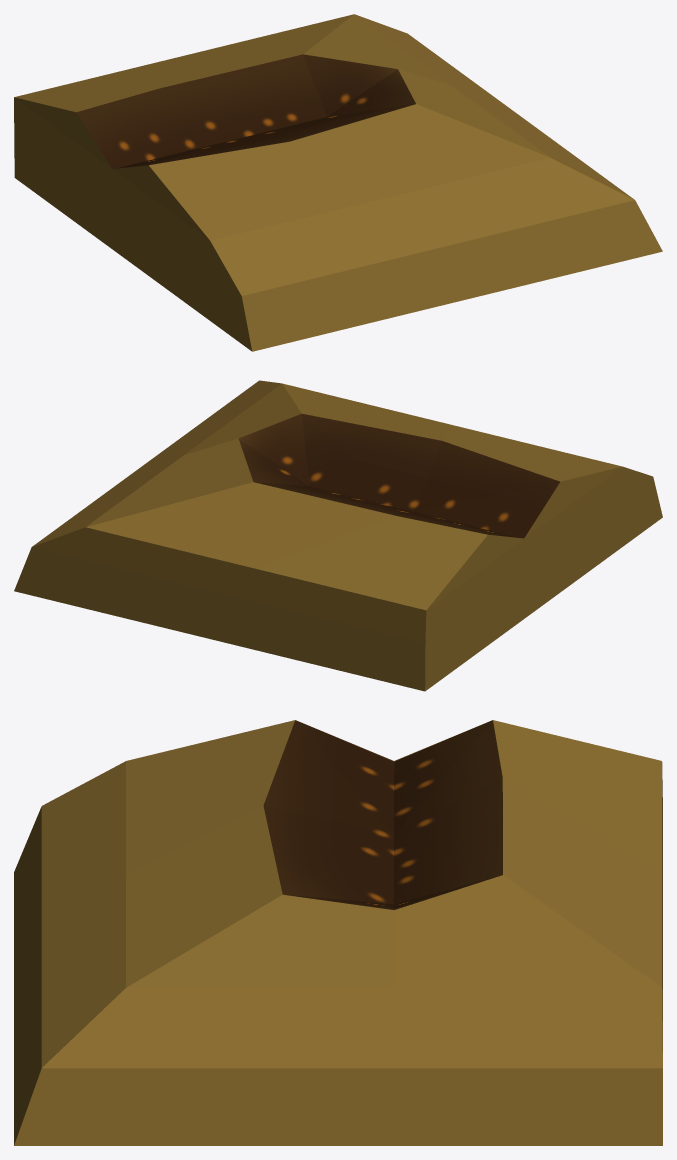
Rendered from seeds_bed4.fbx.
3 renders of one model, top to bottom at view 1: azimuth 30°, elevation 25°; view 2: azimuth 150°, elevation 25°; view 3: azimuth 270°, elevation 25°, orthographic. The views are drawn at different scales.
Visible parts, largest first — view 1: Куб.020; view 2: Куб.020; view 3: Куб.020.
Boxes of the visible parts, <box> form: Куб.020: <box>14,14,662,351</box>; Куб.020: <box>14,380,662,691</box>; Куб.020: <box>14,720,662,1145</box>.
Bounding box in the file's own units: 85 × 22.07 × 85.
